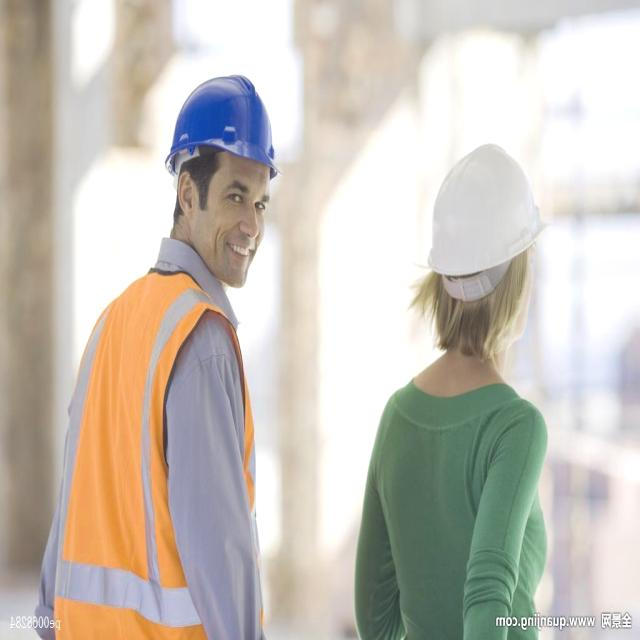face_nomask: (201, 164, 276, 284)
head_helmet: (422, 140, 547, 279), (165, 77, 278, 168)
person: (18, 72, 290, 640), (347, 128, 565, 639)
vest: (57, 291, 244, 638)
